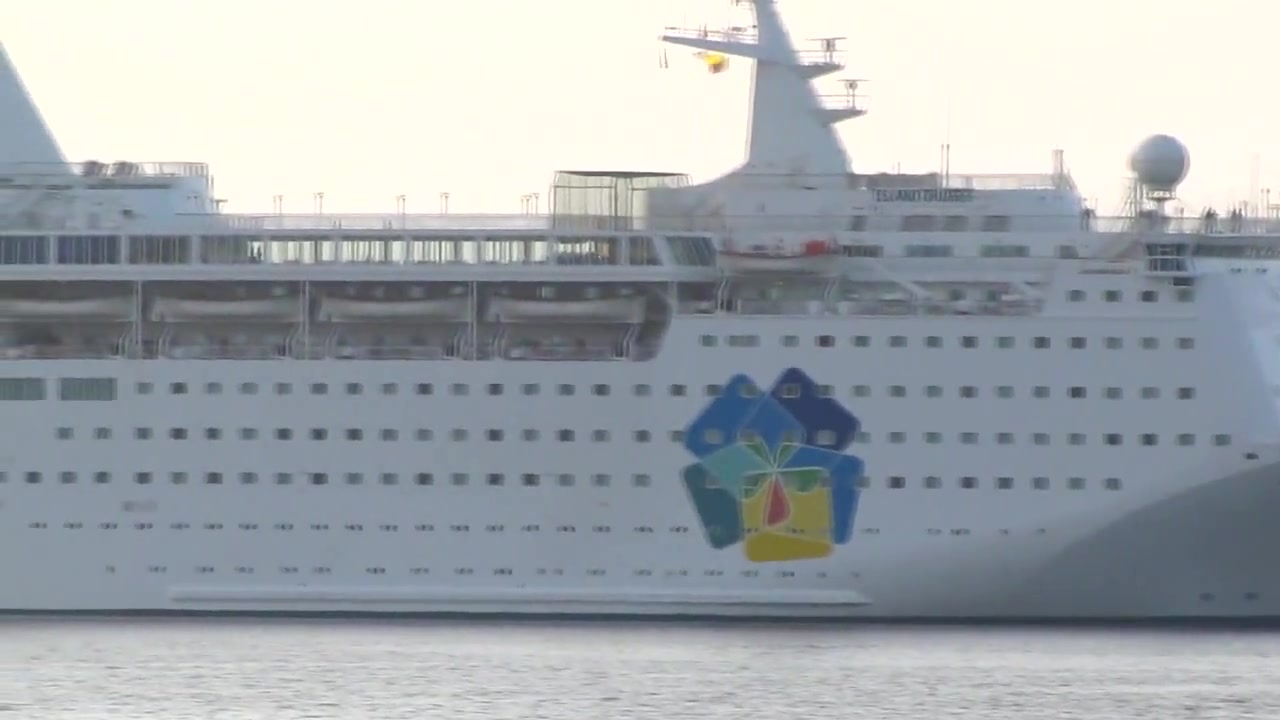boat: (4, 1, 1280, 618)
